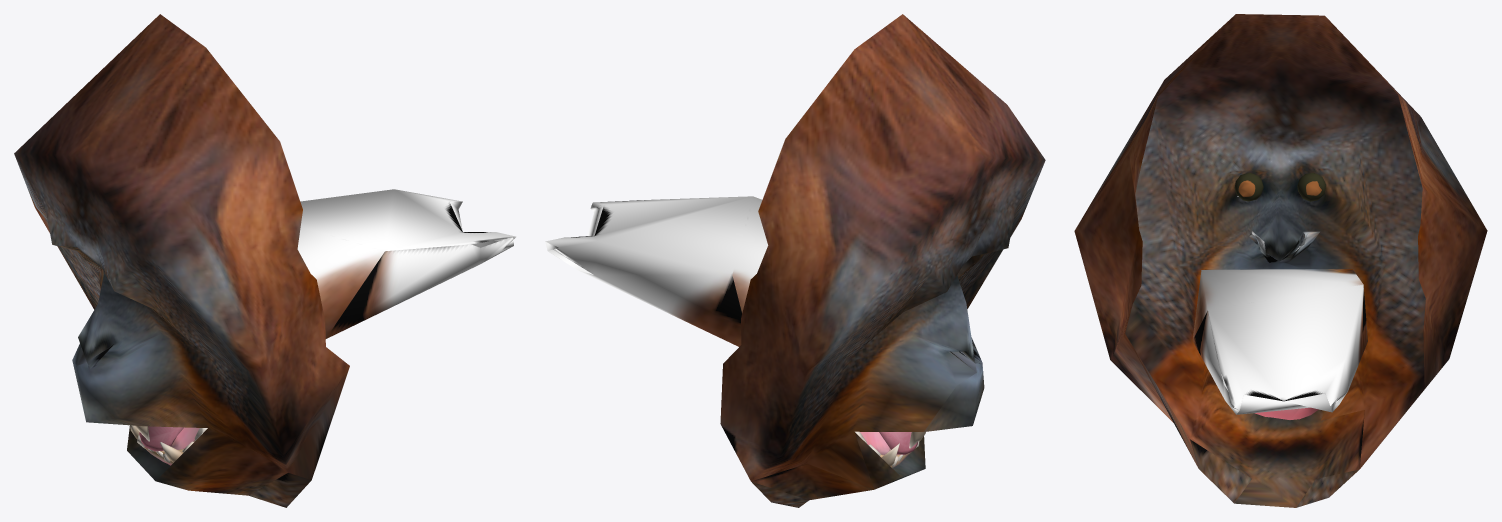
File: orangutanface.glb
The picture shows the model from 3 angles, left to right: view 1: azimuth 30°, elevation 25°; view 2: azimuth 150°, elevation 25°; view 3: azimuth 270°, elevation 25°; orthographic projection. The views are drawn at different scales.
Visible parts, largest first — view 1: Face, Teeth, Tongue; view 2: Face, Teeth; view 3: Face, Eyes, Teeth.
Part boxes in pixels (x1,y1,x2,y2): Face: (14,14,516,507); Teeth: (130,425,207,465); Tongue: (139,426,183,451); Face: (545,14,1045,507); Teeth: (855,431,925,468); Face: (1074,14,1487,507); Eyes: (1234,172,1325,201); Teeth: (1254,407,1318,419).
Bounding box in the file's own units: 4.13 × 4.64 × 3.77.
Materials: 4 (4 with a texture image).
